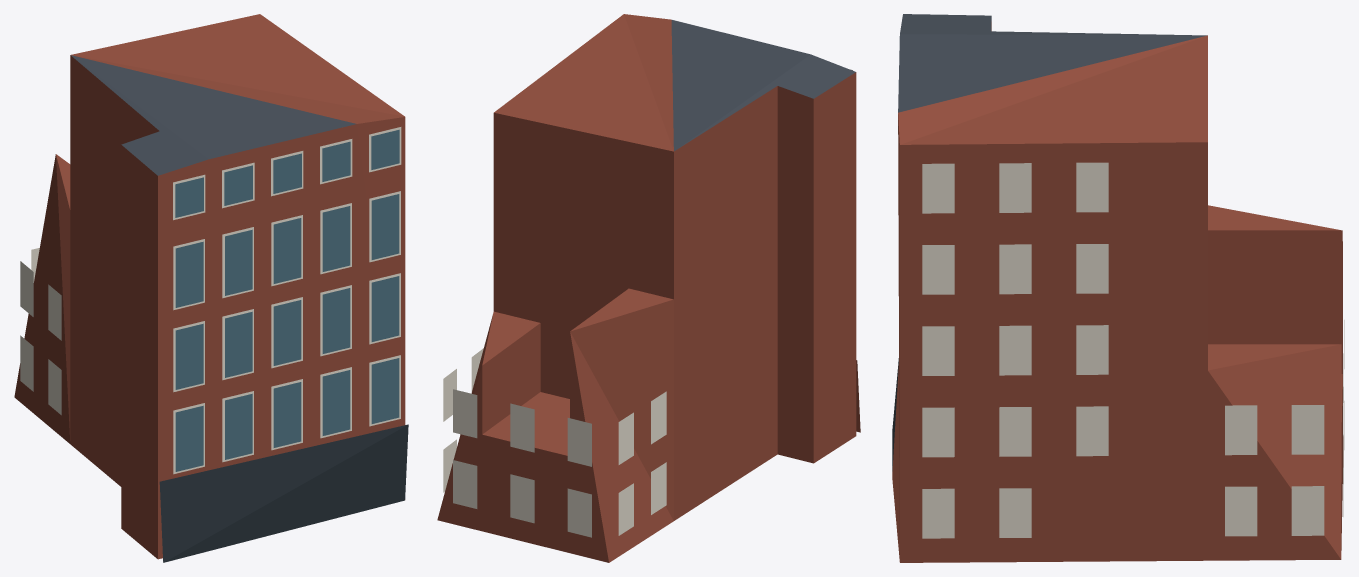
File: hemp-gallery.lod2.glb
The picture shows the model from 3 angles, left to right: view 1: azimuth 30°, elevation 25°; view 2: azimuth 150°, elevation 25°; view 3: azimuth 270°, elevation 25°; orthographic projection. The views are drawn at different scales.
Visible parts, largest first — view 1: lod2; view 2: lod2; view 3: lod2.
Part boxes in pixels (box(x1,y1,x2,y2)): lod2: box(14, 14, 408, 562); lod2: box(437, 14, 860, 562); lod2: box(892, 14, 1344, 562).
Bounding box in the file's own units: 12.48 × 18.8 × 18.27.
